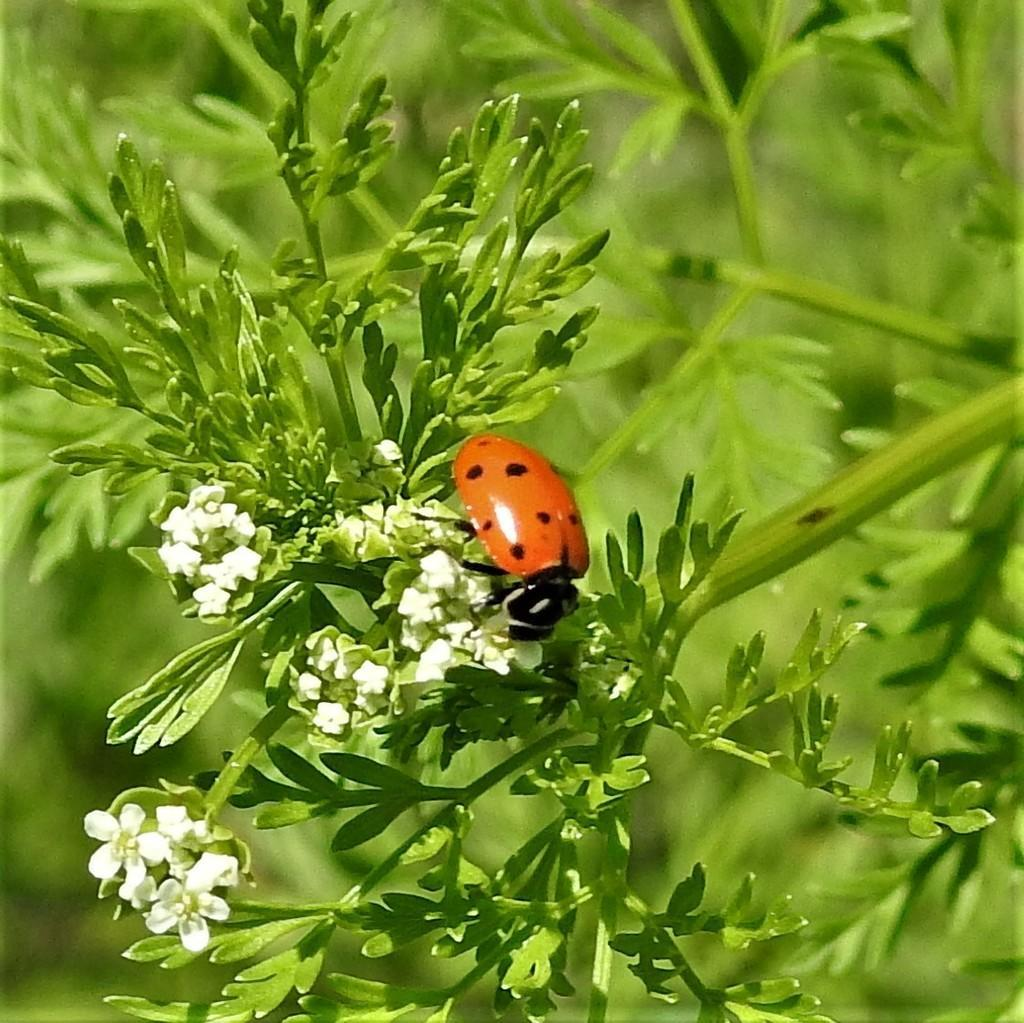ladybug: (411, 431, 596, 644)
